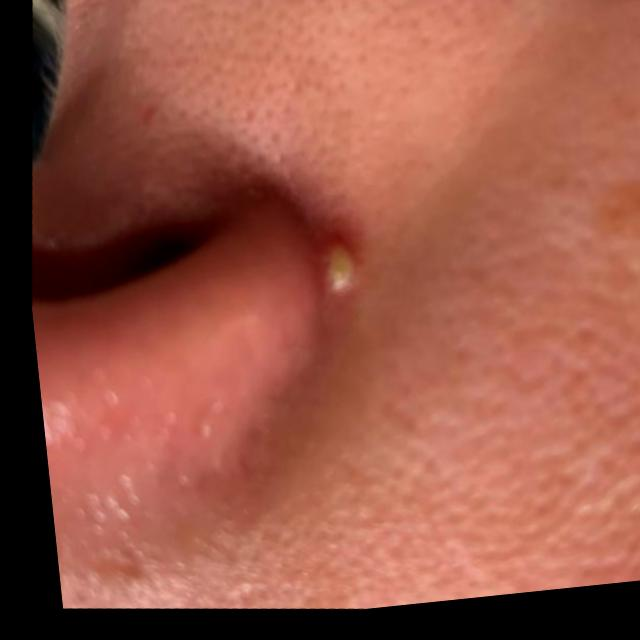pustule: (282, 216, 381, 361)
